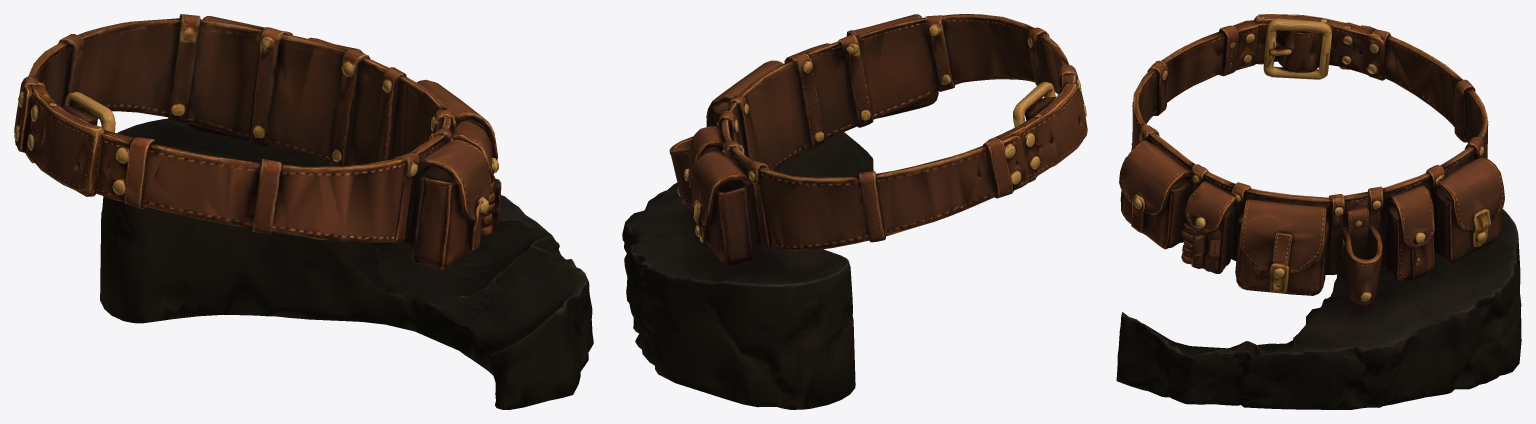
File: quartermaster-belt.glb
3 renders of one model, left to right at view 1: azimuth 30°, elevation 25°; view 2: azimuth 150°, elevation 25°; view 3: azimuth 270°, elevation 25°, orthographic. The views are drawn at different scales.
Visible parts, largest first — view 1: tripo_node_0a6ff1a2-f3ce-4309-a8b4-9321b88f7baf; view 2: tripo_node_0a6ff1a2-f3ce-4309-a8b4-9321b88f7baf; view 3: tripo_node_0a6ff1a2-f3ce-4309-a8b4-9321b88f7baf.
Boxes of the visible parts, x1=… form: tripo_node_0a6ff1a2-f3ce-4309-a8b4-9321b88f7baf: x1=14, y1=14, x2=593, y2=409; tripo_node_0a6ff1a2-f3ce-4309-a8b4-9321b88f7baf: x1=622, y1=14, x2=1087, y2=409; tripo_node_0a6ff1a2-f3ce-4309-a8b4-9321b88f7baf: x1=1116, y1=14, x2=1521, y2=409.
Size of the model in its own units: 0.9996 by 0.6347 by 0.9567.
1 material, 1 textured.
